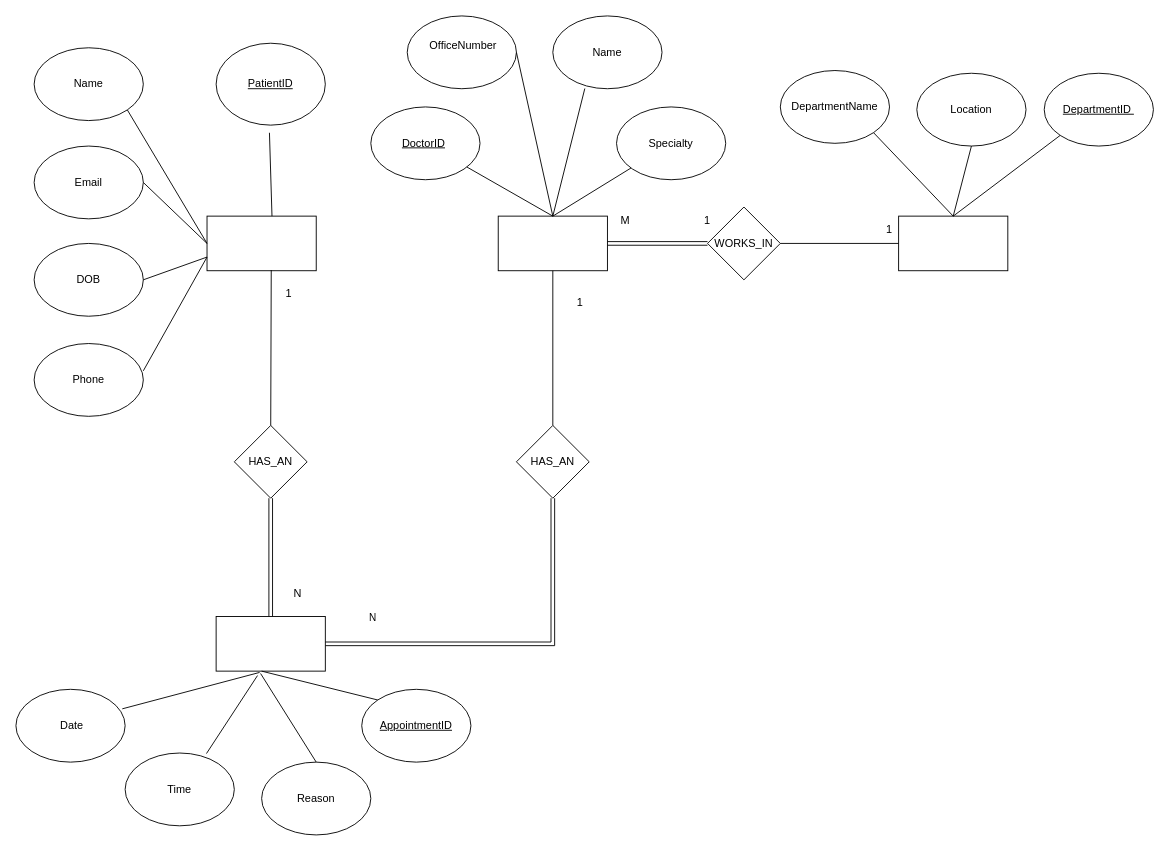
Image size: 1169x851. Some labels were removed from this diagram. Each missing label, with the centre of its shape:
Appointment: pixel 270 643
Department: pixel 953 243
Doctor: pixel 552 243
Patient: pixel 261 243
